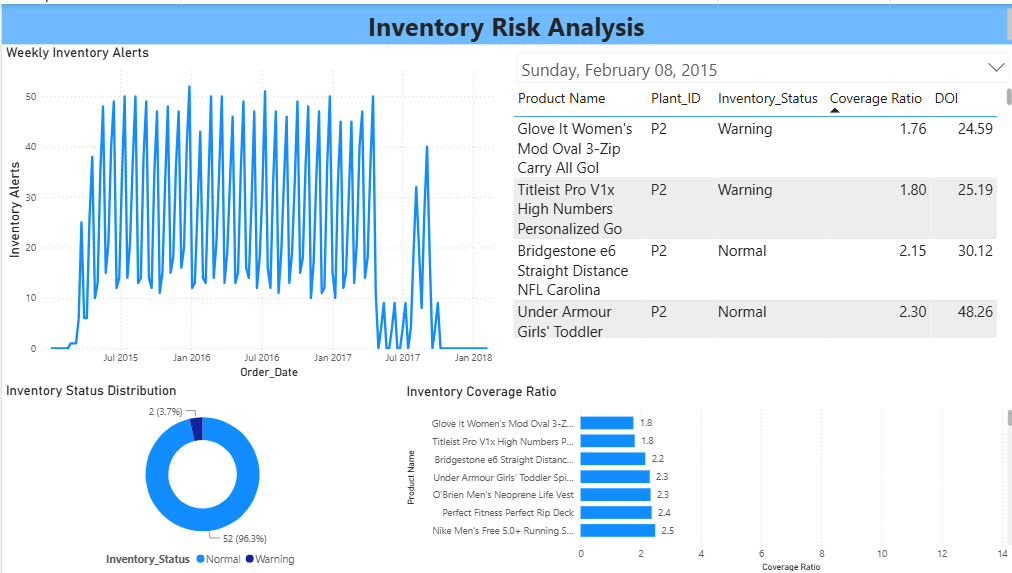

This screenshot's page, from the dashboard's own definition file:
{"tool":"powerbi","page":{"name":"Inventory Risk","canvas":[1280,720],"ordinal":2},"visuals":[{"type":"textbox","box":[0,0,1279.5,51.5],"z":0},{"type":"tableEx","fields":{"Values":["inventory_risk_weekly.Product Name","inventory_risk_weekly.Plant_ID","inventory_risk_weekly.Inventory_Status","inventory_risk_weekly.Coverage Ratio","inventory_risk_weekly.DOI"]},"box":[638.7,100.2,640.6,325],"z":1000},{"type":"slicer","title":"Data Selection","fields":{"Values":["inventory_risk_weekly.Order_Date"]},"box":[639,51.5,640.5,50],"z":2000},{"type":"lineChart","title":"Weekly Inventory Alerts","fields":{"Category":["inventory_risk_weekly.Order_Date"],"Y":["Sum(inventory_risk_weekly.Inventory_Alert)"]},"box":[0,51.5,639,425.5],"z":3000},{"type":"donutChart","title":"Inventory Status Distribution","fields":{"Category":["inventory_risk_weekly.Inventory_Status"],"Y":["CountNonNull(inventory_risk_weekly.Product Name)"]},"box":[0,476.2,504.6,241.9],"z":4000},{"type":"clusteredBarChart","title":"Inventory Coverage Ratio","fields":{"Category":["inventory_risk_weekly.Product Name"],"Y":["Avg(inventory_risk_weekly.Coverage Ratio)"]},"box":[504.6,478.1,774.8,241.9],"z":5000}]}

Visuals, with their boxes in screenshot pixels (x1, y1, x2, y2), scaled from the page's 1280x720 canvas onto the 1012x573 screenshot:
textbox: box(0, 0, 1011, 41)
tableEx - inventory_risk_weekly.Product Name x inventory_risk_weekly.Plant_ID: box(505, 80, 1011, 338)
"Data Selection" slicer: box(505, 41, 1011, 81)
"Weekly Inventory Alerts" lineChart: box(0, 41, 505, 380)
"Inventory Status Distribution" donutChart: box(0, 379, 399, 571)
"Inventory Coverage Ratio" clusteredBarChart: box(399, 380, 1011, 572)
